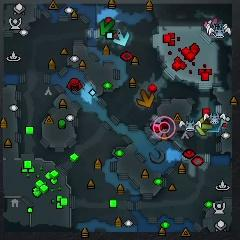x1: (203, 16, 220, 31)
x2: (195, 117, 212, 136)
x3: (112, 28, 131, 46)
x4: (99, 20, 118, 38)
x5: (137, 90, 154, 107)
